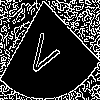V: (24, 24, 65, 81)
